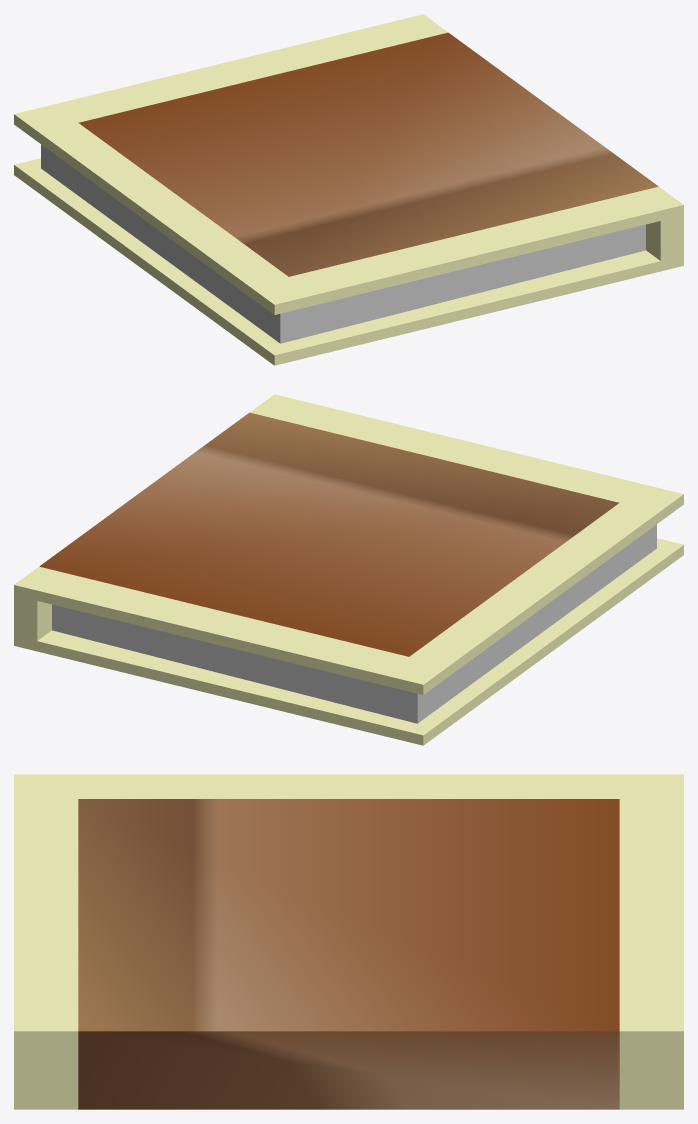
File: FurnAcc_BookV2.fbx
3 views of the same model, one above another, from view 1: azimuth 30°, elevation 25°; view 2: azimuth 150°, elevation 25°; view 3: azimuth 270°, elevation 25° (orthographic). The views are drawn at different scales.
Visible parts, largest first — view 1: FurnAcc_BookV2; view 2: FurnAcc_BookV2; view 3: FurnAcc_BookV2.
Boxes of the visible parts, x1,y1,x2,y2 form: FurnAcc_BookV2: [14, 14, 683, 365]; FurnAcc_BookV2: [14, 394, 683, 745]; FurnAcc_BookV2: [14, 774, 683, 1109].
Bounding box in the file's own units: 36.3 × 5.16 × 40.
